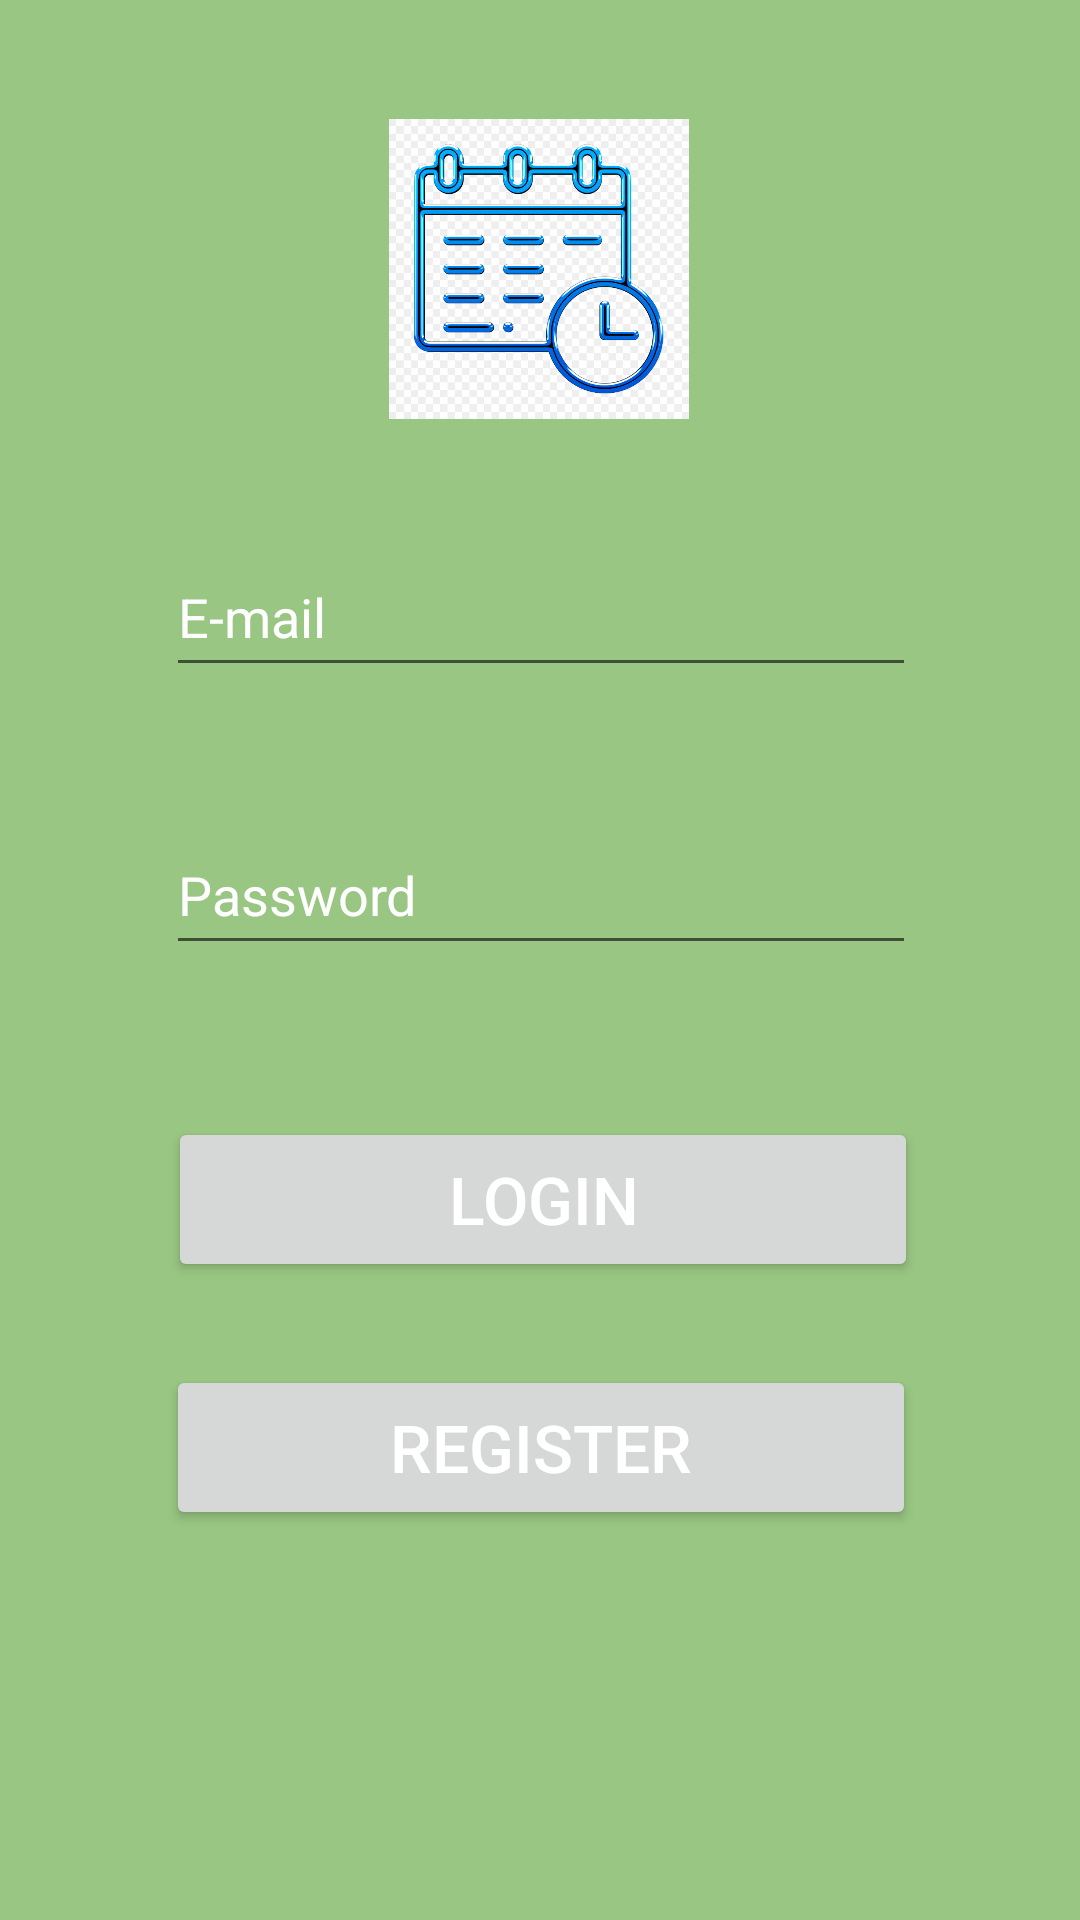

Icon bounding boxes for this 1080x1920 phone screenshot, format (x1, y1, x2, y2):
planning: (389, 119, 689, 419)
